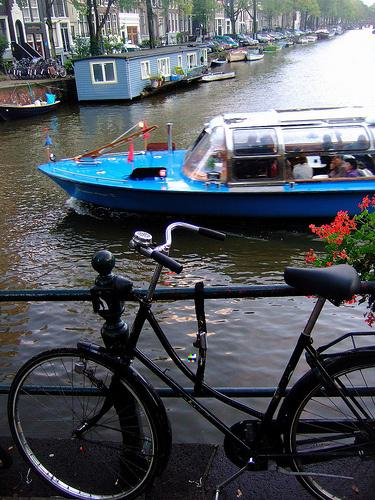boat: (36, 107, 375, 224)
car: (10, 217, 374, 500)
